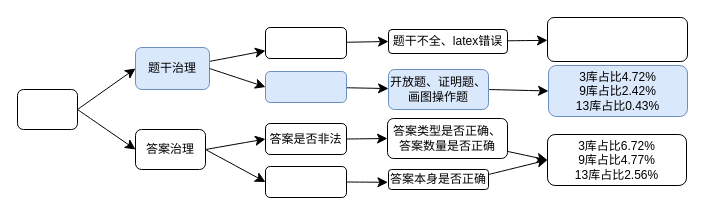
This 705x215 diagram has some shape labels left out. Here are the shapes that lost their labels. From the top down, the box of each, then its label:
(264, 26, 346, 58): 题干是否有误
(546, 16, 688, 62): 3库占比7.97% 9库占比5.2% 13库占比1.32%
(264, 70, 346, 102): 题干是否属于非批改题
(16, 88, 78, 130): 题库治理
(264, 166, 346, 198): 答案是否正确
